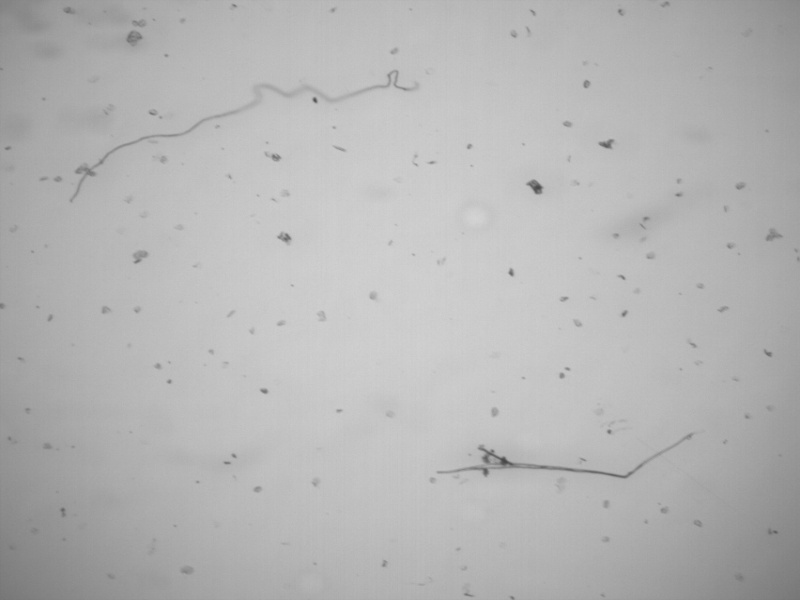fiber: (67, 67, 422, 206), (434, 425, 706, 481)
